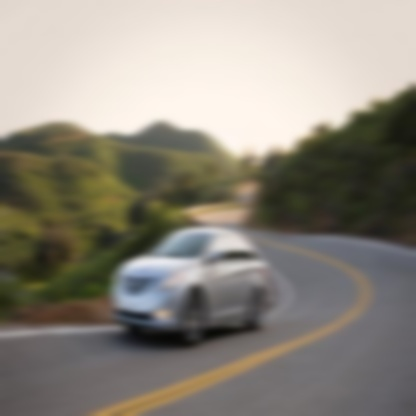Vehicle: (112, 228, 272, 350)
